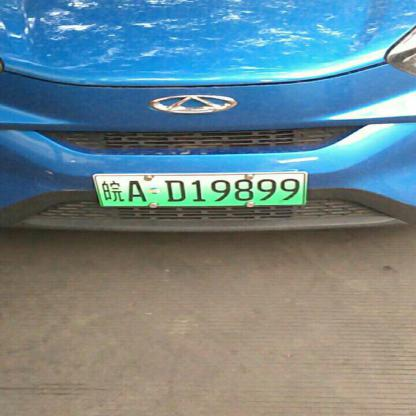lp: (94, 172, 306, 207)
